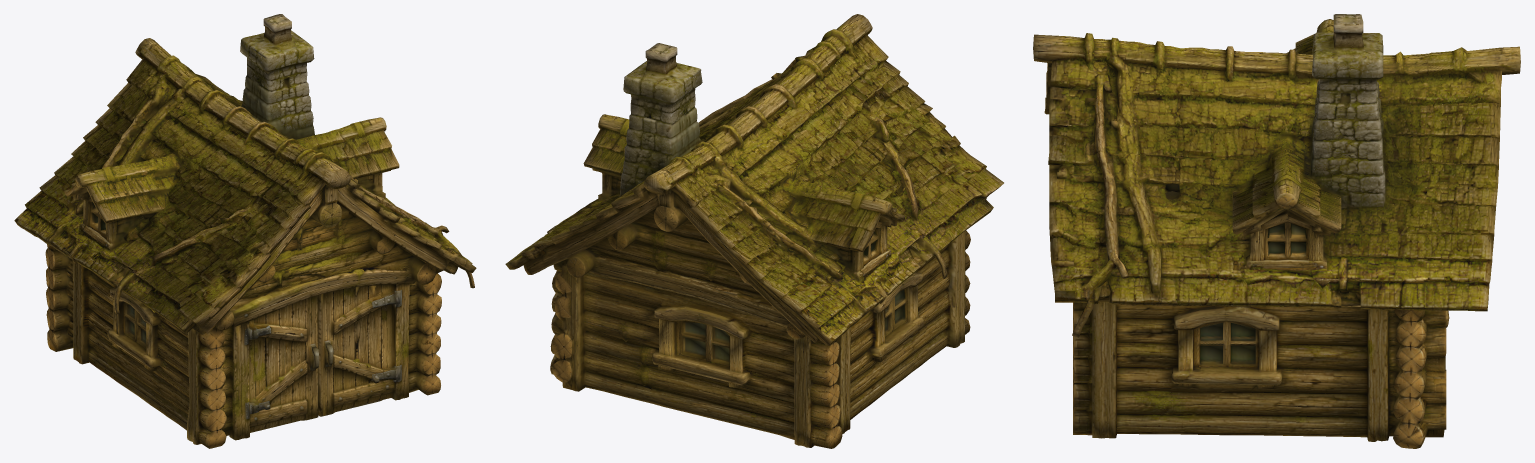
Rendered from ruined_carperter's_workshop.glb.
3 views of the same model, side by side, from view 1: azimuth 30°, elevation 25°; view 2: azimuth 150°, elevation 25°; view 3: azimuth 270°, elevation 25° (orthographic). The views are drawn at different scales.
Visible parts, largest first — view 1: tripo_node_956b5c00-c361-49c3-a134-c80042d90be2; view 2: tripo_node_956b5c00-c361-49c3-a134-c80042d90be2; view 3: tripo_node_956b5c00-c361-49c3-a134-c80042d90be2.
Part boxes in pixels (box(x1,y1,x2,y2)): tripo_node_956b5c00-c361-49c3-a134-c80042d90be2: box(14, 14, 476, 448); tripo_node_956b5c00-c361-49c3-a134-c80042d90be2: box(505, 14, 1003, 448); tripo_node_956b5c00-c361-49c3-a134-c80042d90be2: box(1033, 14, 1520, 448).
Size of the model in its own units: 0.8962 by 0.854 by 0.9807.
Materials: 1 (1 with a texture image).
